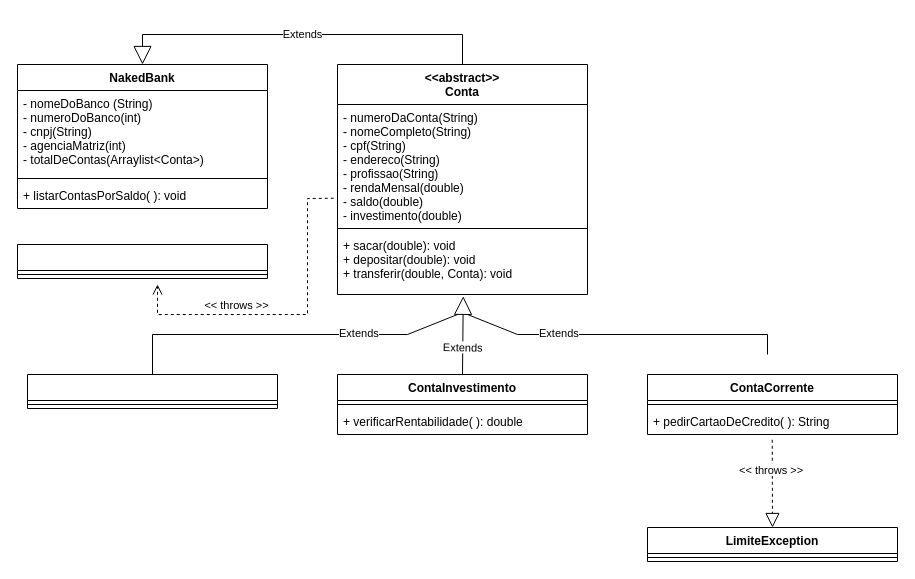
The diagram is 915 pixels wide and 579 high, and some of its shapes have lost their labels. The centre of each missing label's shape, as x and y in pixels:
"ContaPoupanca" belongs at point 152,391.
"SaldoException" belongs at point 142,261.
